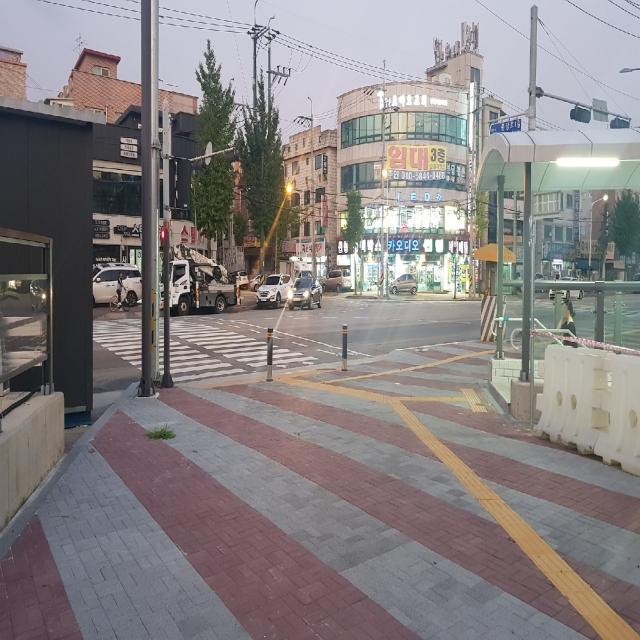횡단보도: (93, 318, 319, 383)
